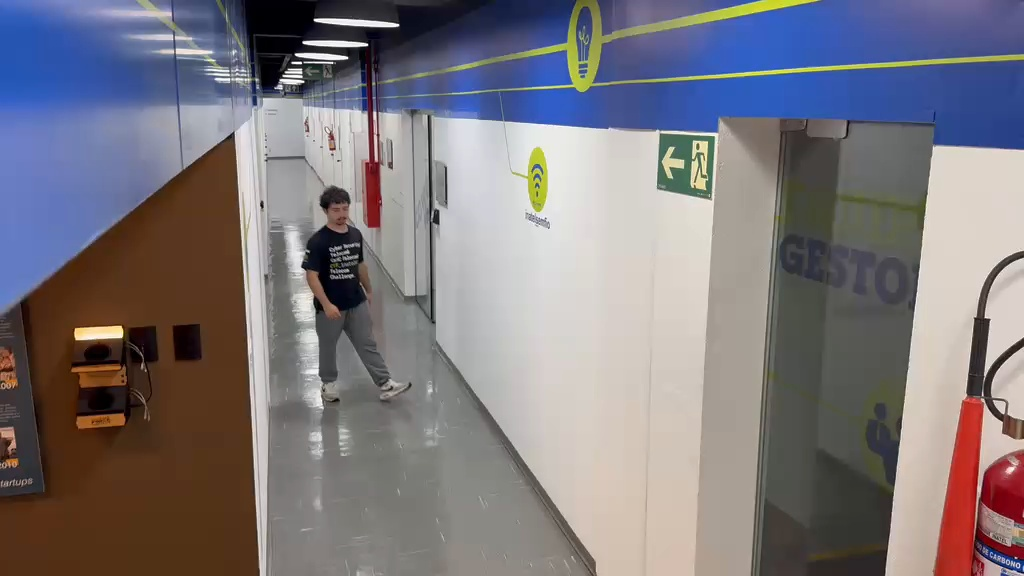person: (302, 186, 412, 404)
